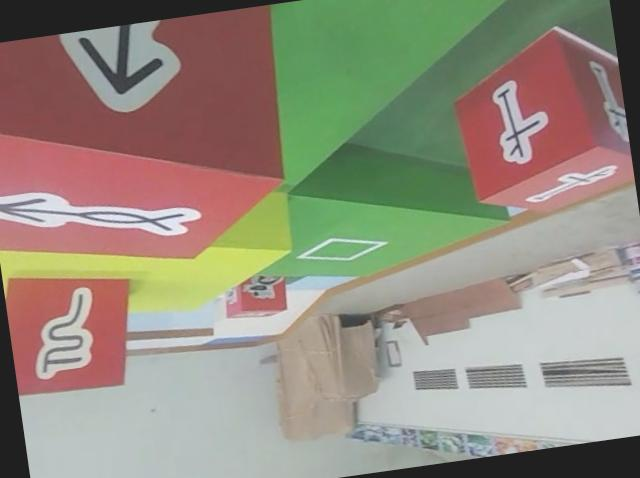R1: (222, 267, 294, 328)
R2 Fake: (2, 258, 151, 405)
R2 Real: (0, 3, 312, 289), (443, 22, 639, 229)
